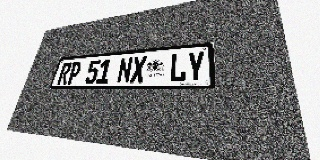1: (96, 59, 112, 84)
5: (84, 60, 101, 84)
L: (169, 52, 187, 82)
N: (116, 57, 133, 83)
P: (66, 61, 82, 84)
R: (57, 62, 73, 84)
X: (130, 56, 147, 83)
Y: (187, 51, 205, 82)
